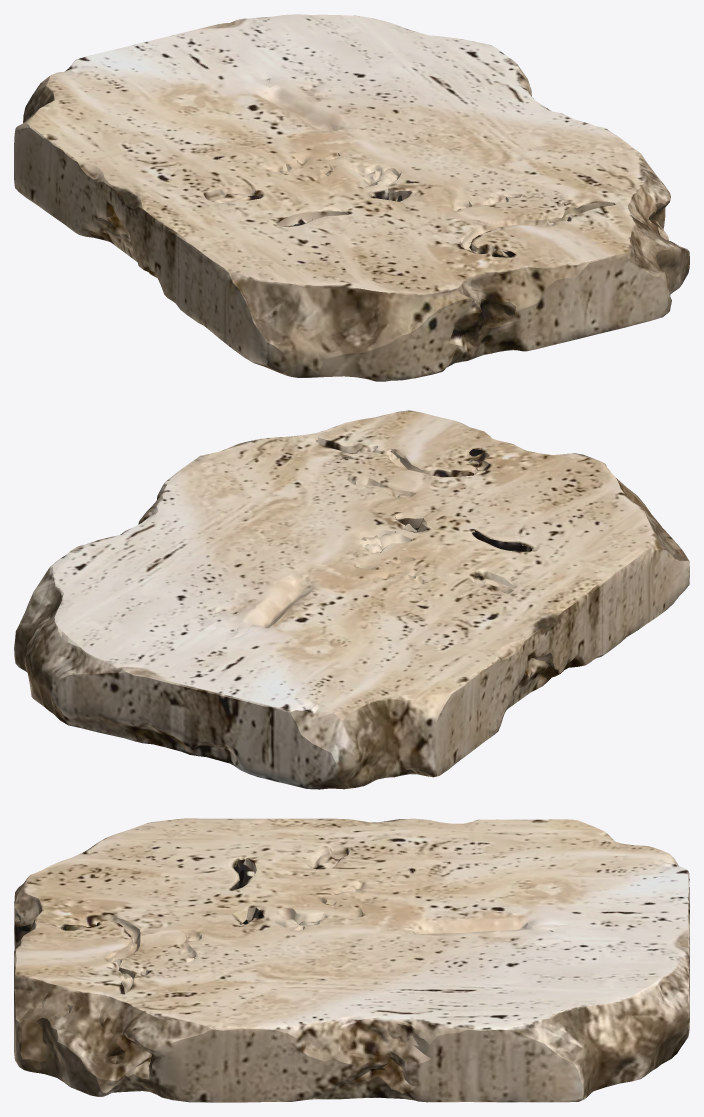
The model's file is remnant-c.glb.
3 views of the same model, one above another, from view 1: azimuth 30°, elevation 25°; view 2: azimuth 150°, elevation 25°; view 3: azimuth 270°, elevation 25° (orthographic).
Visible parts, largest first — view 1: geometry_0; view 2: geometry_0; view 3: geometry_0.
Part boxes in pixels (box(x1,y1,x2,y2)): geometry_0: box(14, 14, 689, 381); geometry_0: box(14, 410, 689, 789); geometry_0: box(14, 818, 689, 1102).
Size of the model in its own units: 0.32 by 0.0554 by 0.4318.
Materials: 1 (1 with a texture image).
